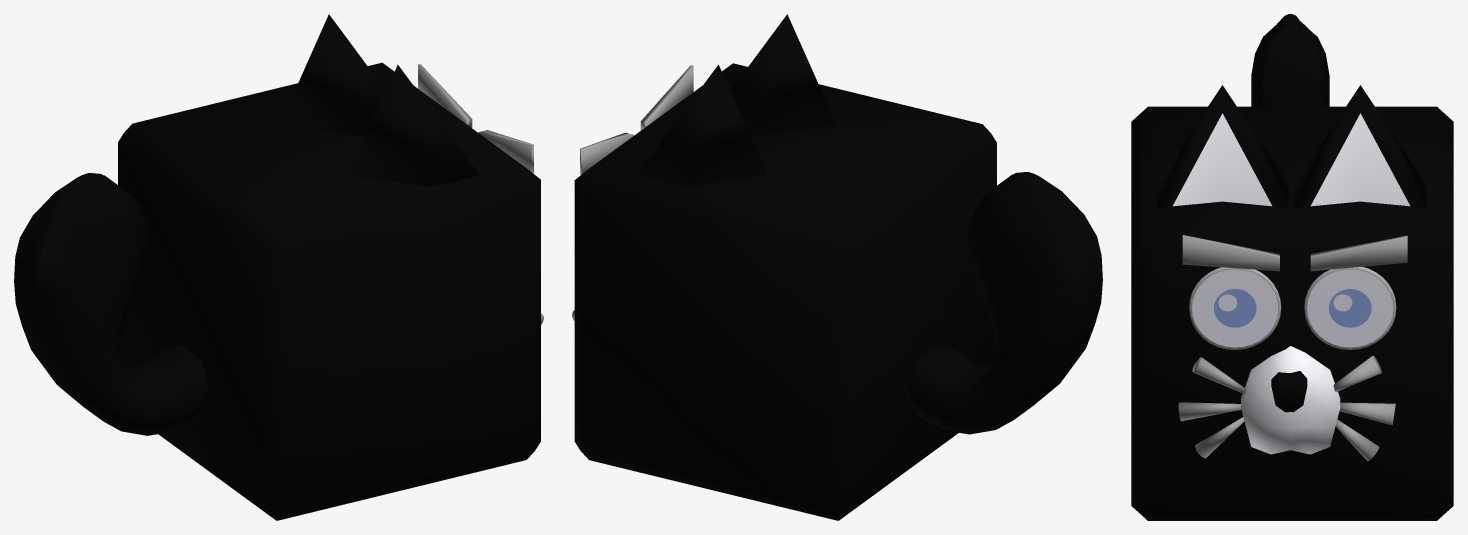
The model's file is blackCat.fbx.
3 renders of one model, left to right at view 1: azimuth 30°, elevation 25°; view 2: azimuth 150°, elevation 25°; view 3: azimuth 270°, elevation 25°, orthographic.
Visible parts, largest first — view 1: Circle, Cube; view 2: Circle, Cube; view 3: Circle, Cube.
Boxes of the visible parts, x1=… form: Circle: x1=118, y1=14, x2=543, y2=520; Cube: x1=14, y1=64, x2=533, y2=435; Circle: x1=572, y1=14, x2=996, y2=520; Cube: x1=580, y1=65, x2=1102, y2=434; Circle: x1=1131, y1=85, x2=1453, y2=520; Cube: x1=1182, y1=14, x2=1407, y2=271.
Size of the model in its own units: 350 by 268 by 200.
